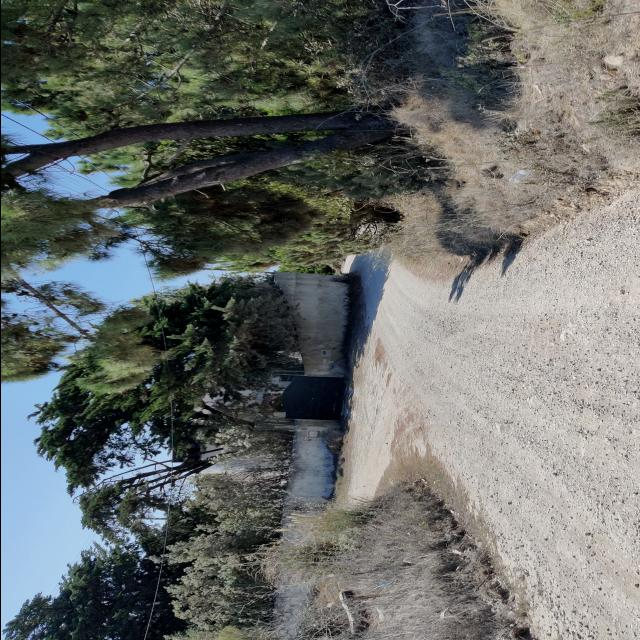Clear plastic bottle: (508, 170, 528, 183)
Unlabeled litter: (375, 583, 390, 587)
